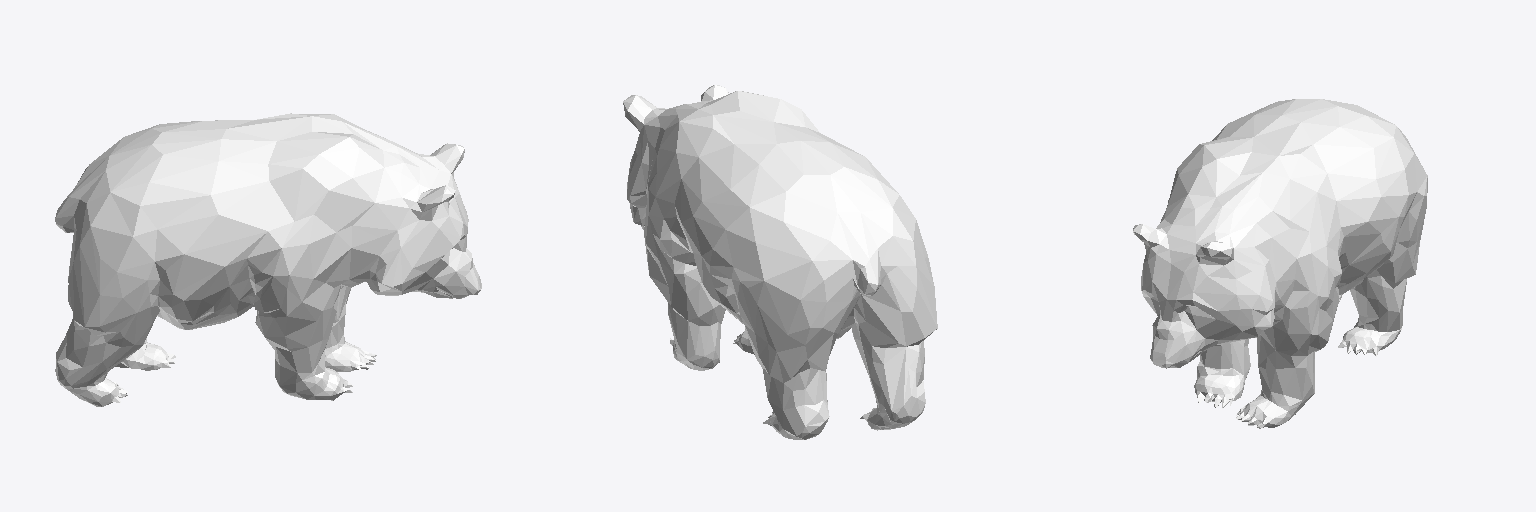
Rendered from panda.obj.
3 renders of one model, left to right at view 1: azimuth 30°, elevation 25°; view 2: azimuth 150°, elevation 25°; view 3: azimuth 270°, elevation 25°, orthographic.
Parts seen in each view (by area): view 1: node_id5; view 2: node_id5; view 3: node_id5.
Boxes of the visible parts, box(x1,y1,x2,y2) form: node_id5: box(55, 113, 481, 406); node_id5: box(623, 85, 937, 439); node_id5: box(1133, 99, 1427, 428).
Size of the model in its own units: 0.29 by 0.2015 by 0.2121.